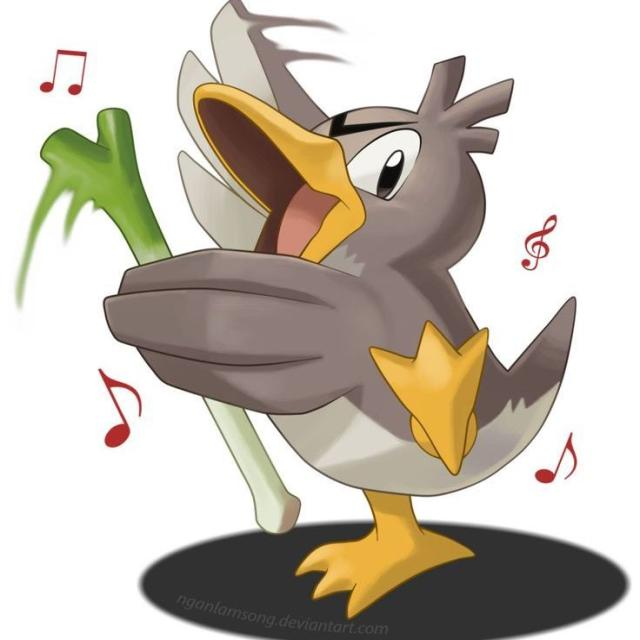Farfetchd: (108, 62, 522, 604)
